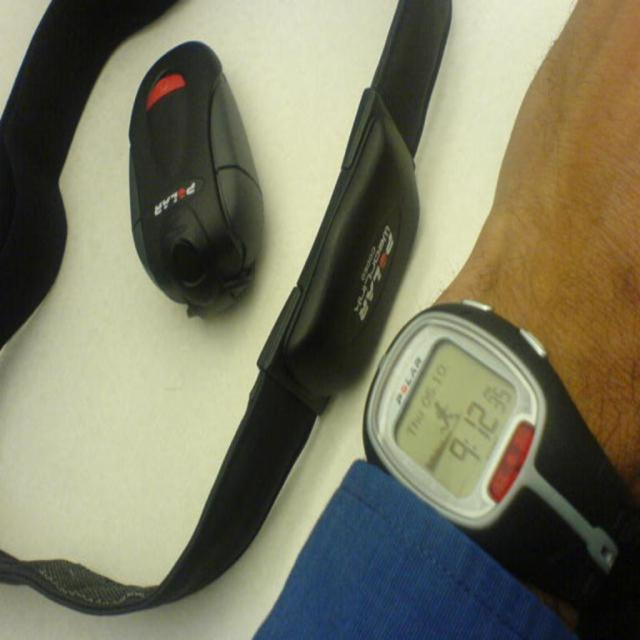Computer mouse: (132, 37, 265, 315)
